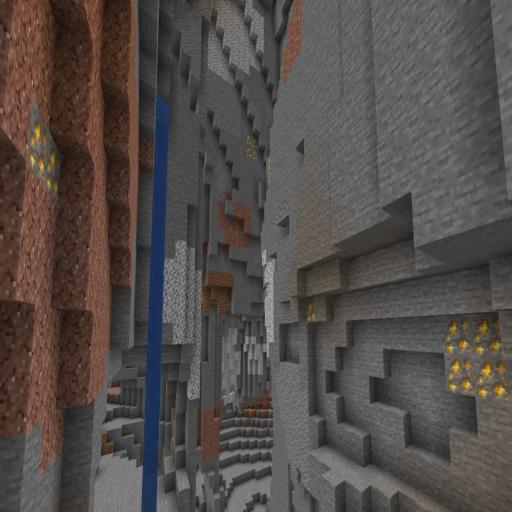gold ore: (440, 316, 512, 415), (24, 98, 64, 209), (246, 119, 262, 169), (302, 298, 318, 326), (267, 150, 273, 190)
